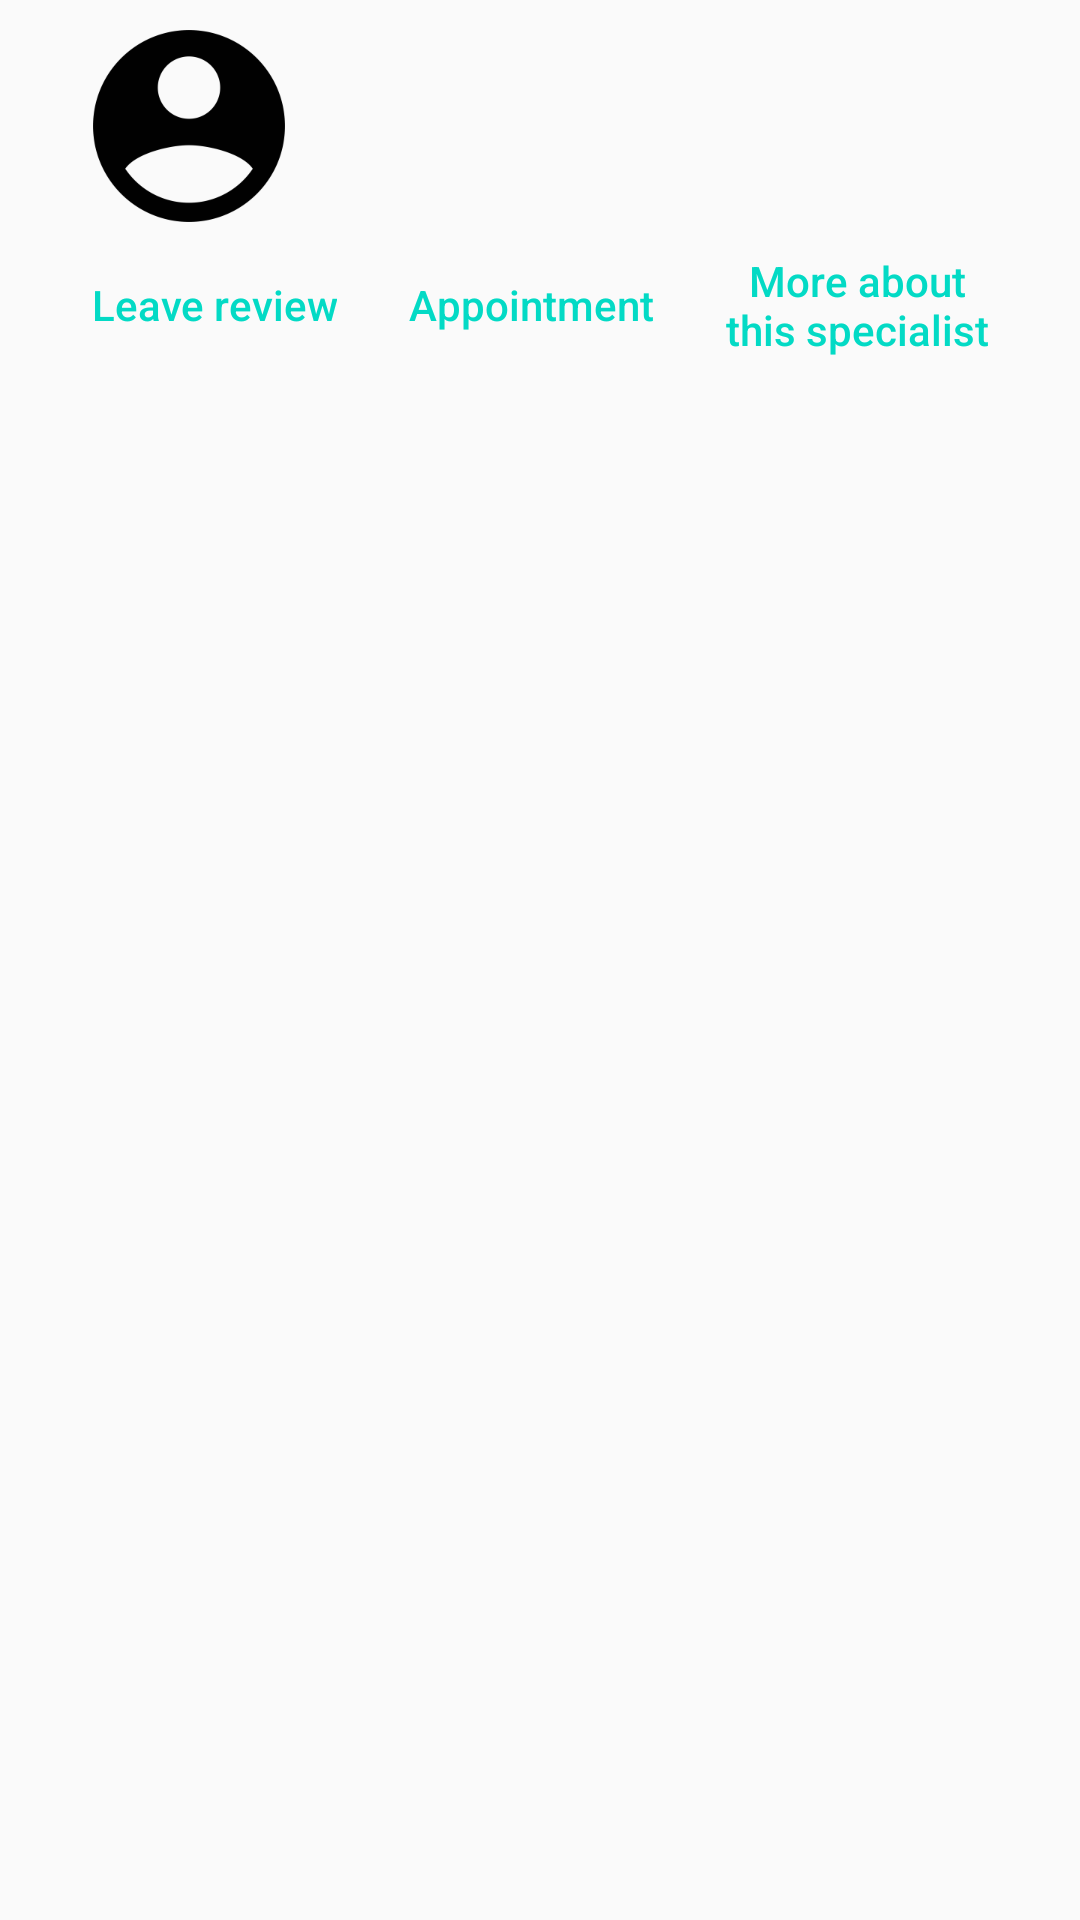

Named icons in this screenshot (1080 x 1920) and their centers, (x=x, y=y):
user: (x=189, y=126)
